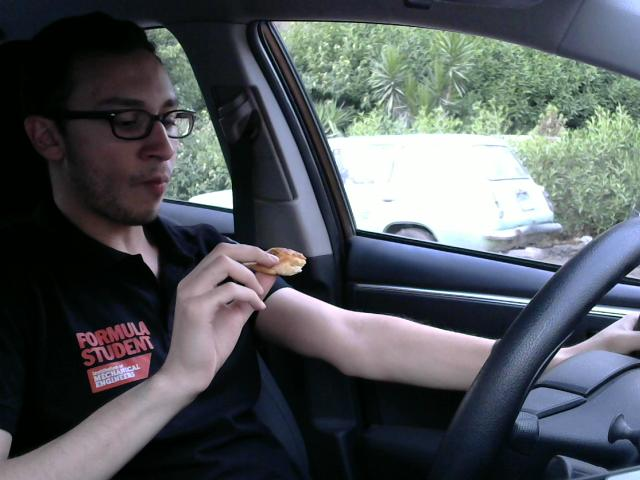Eating: (249, 235, 311, 284)
